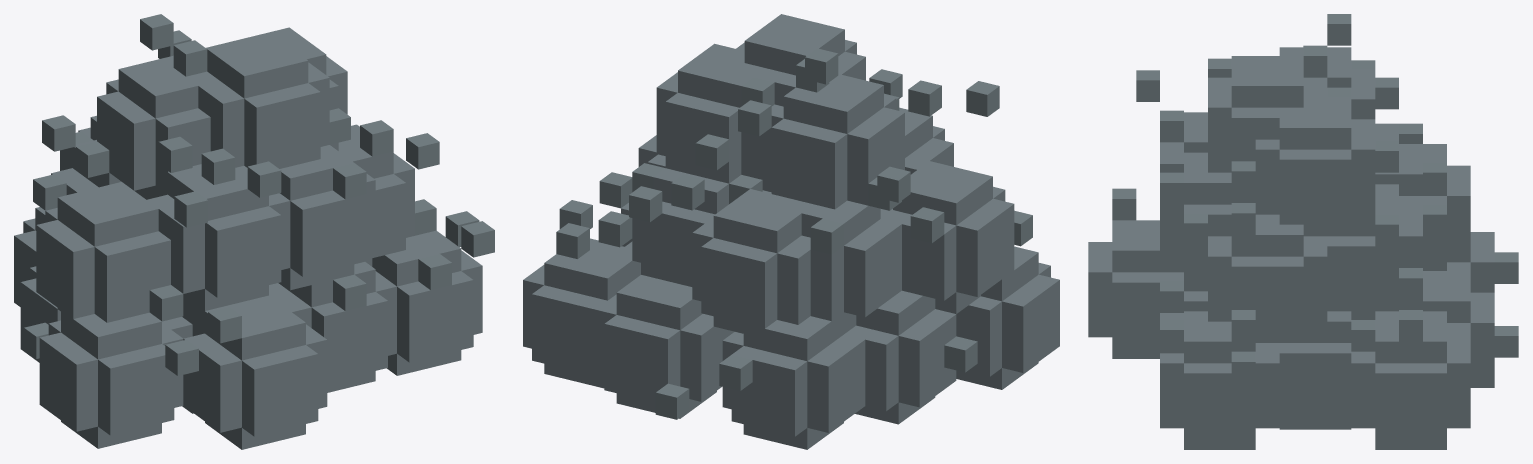
Rendered from cotton.obj.
The picture shows the model from 3 angles, left to right: view 1: azimuth 30°, elevation 25°; view 2: azimuth 150°, elevation 25°; view 3: azimuth 270°, elevation 25°; orthographic projection. The views are drawn at different scales.
Bounding box in the file's own units: 2 × 1.5 × 1.8.
